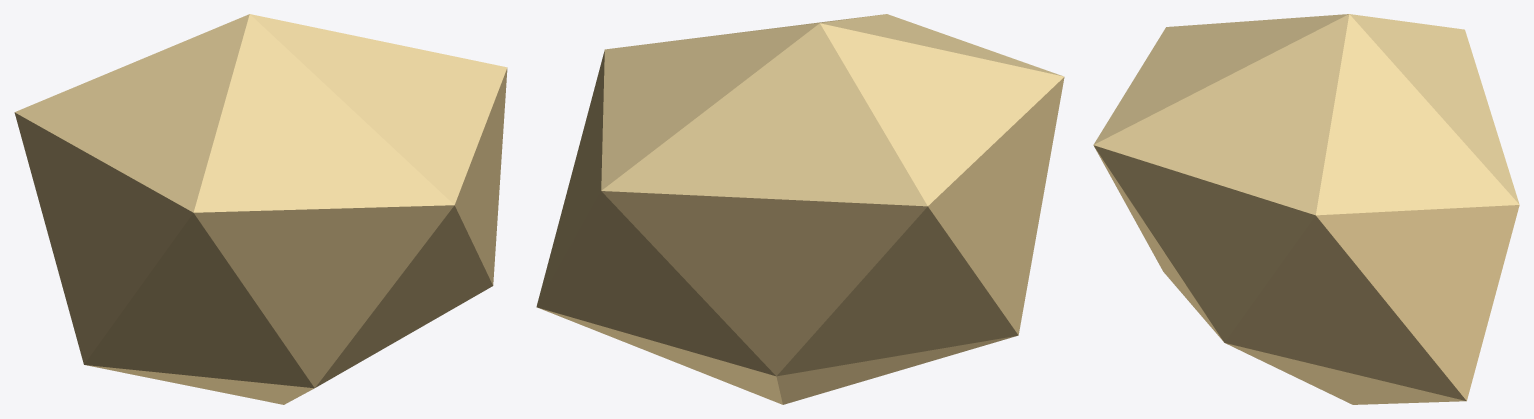
The model's file is DesertRock.fbx.
3 views of the same model, side by side, from view 1: azimuth 30°, elevation 25°; view 2: azimuth 150°, elevation 25°; view 3: azimuth 270°, elevation 25° (orthographic). The views are drawn at different scales.
Visible parts, largest first — view 1: DesertRock; view 2: DesertRock; view 3: DesertRock.
Part boxes in pixels (box(x1,y1,x2,y2)): DesertRock: box(14, 14, 507, 404); DesertRock: box(536, 14, 1064, 404); DesertRock: box(1093, 14, 1519, 404).
Size of the model in its own units: 3.71 by 3.35 by 3.46.
1 material, 1 textured.
